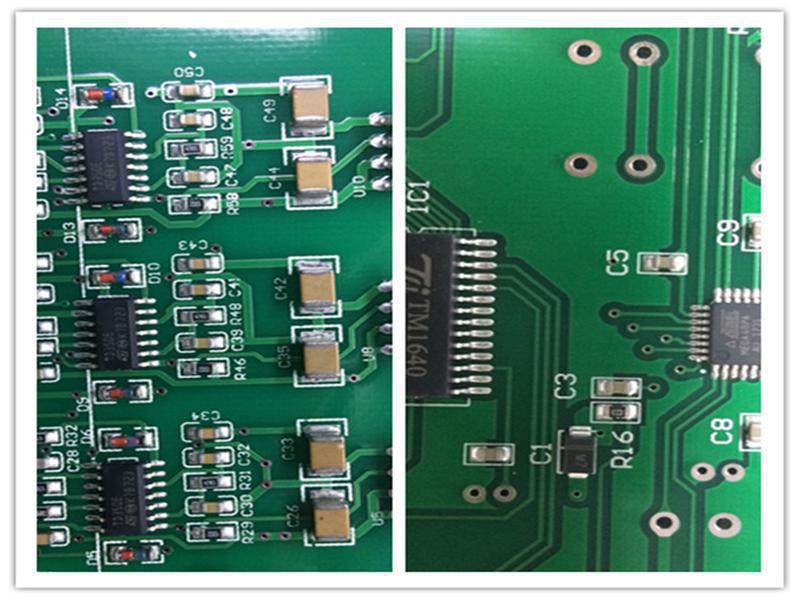SMD capacitor: (295, 324, 351, 392), (302, 489, 360, 550), (300, 420, 352, 487), (290, 254, 342, 317), (191, 495, 240, 519), (187, 422, 236, 444), (185, 451, 239, 469)
SMD resistor: (598, 403, 640, 422)
diode: (100, 428, 161, 453), (88, 264, 147, 288), (94, 382, 155, 404), (75, 85, 132, 107), (104, 543, 163, 564), (82, 223, 145, 242)
